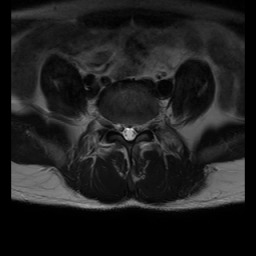CCS_stenosis: (126, 120, 132, 144)
LFS_normal: (140, 116, 147, 138)
LLS_normal: (132, 119, 139, 142)
RFS_normal: (113, 115, 121, 136)
RLS_normal: (120, 118, 127, 144)
